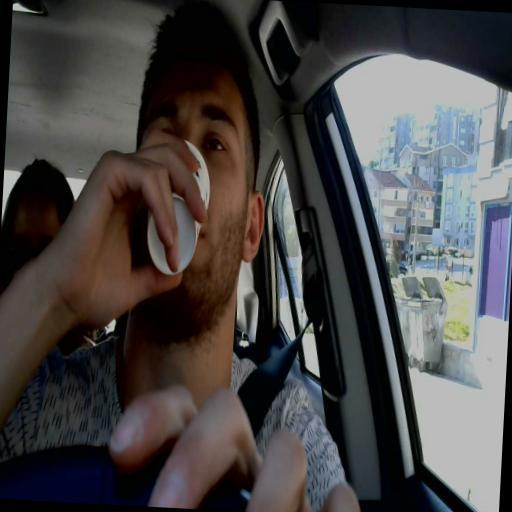Drinking: (123, 61, 265, 322)
